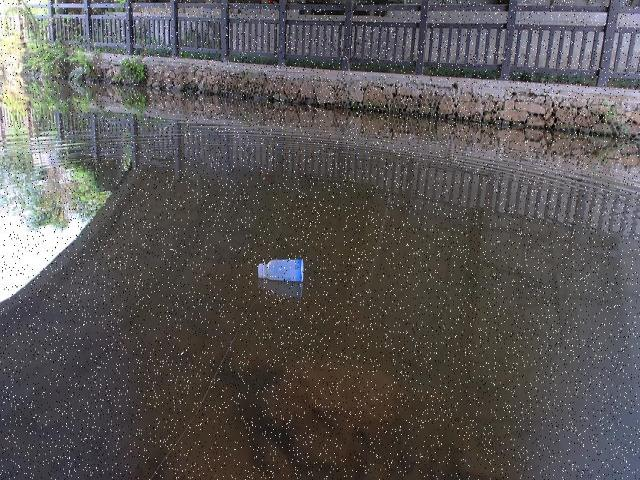Bottle: (250, 257, 311, 288)
